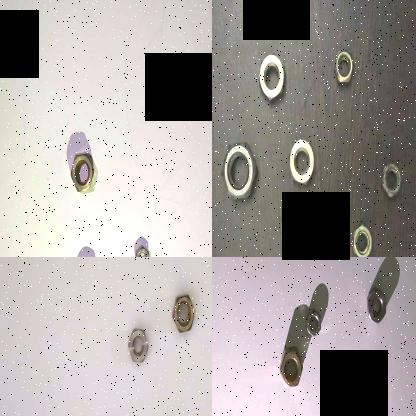NUTS: (219, 133, 256, 205), (286, 126, 320, 188), (253, 49, 290, 104), (169, 288, 198, 336), (68, 147, 96, 194), (278, 347, 304, 392), (329, 43, 354, 89), (289, 222, 321, 257), (378, 154, 400, 202), (363, 284, 387, 326), (126, 324, 150, 364), (350, 220, 372, 257), (303, 306, 322, 340), (132, 237, 152, 257)
